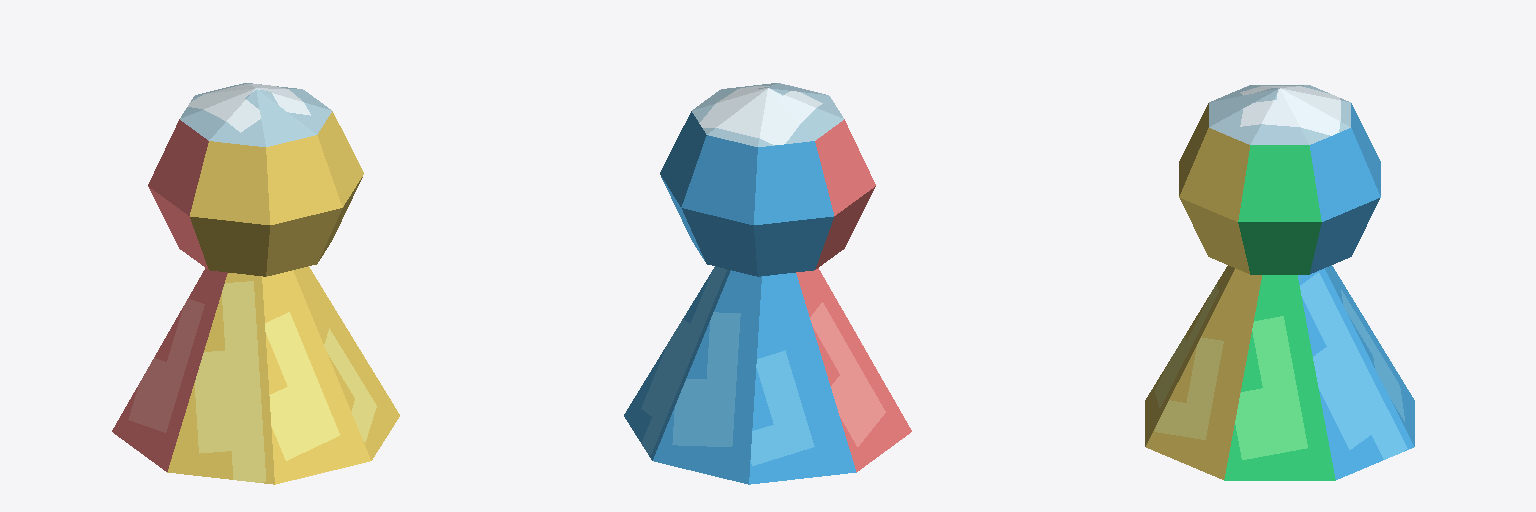
3 renders of one model, left to right at view 1: azimuth 30°, elevation 25°; view 2: azimuth 150°, elevation 25°; view 3: azimuth 270°, elevation 25°, orthographic.
Parts seen in each view (by area): view 1: pawn; view 2: pawn; view 3: pawn.
Boxes of the visible parts, <box> form: pawn: <box>112,83,399,484</box>; pawn: <box>624,83,911,484</box>; pawn: <box>1145,85,1414,480</box>.
Size of the model in its own units: 0.5 by 0.6875 by 0.5.
Materials: 1 (1 with a texture image).